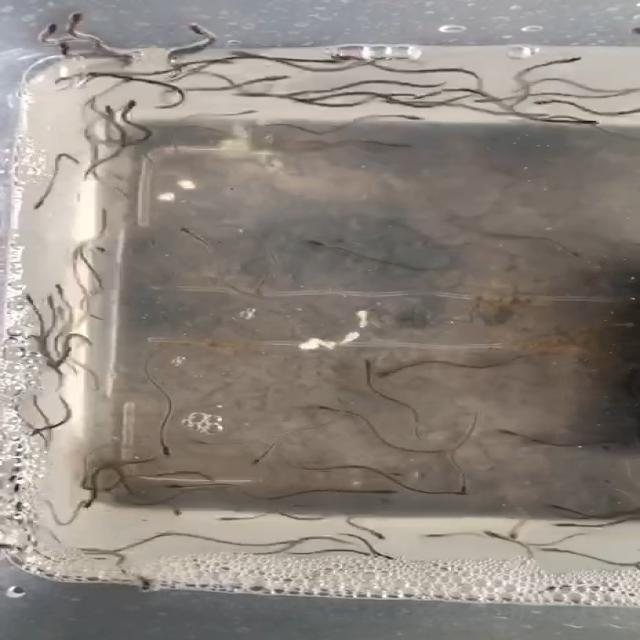inactive_glass_eel: (238, 447, 297, 480), (137, 432, 195, 464), (362, 362, 429, 387), (122, 100, 174, 130), (116, 568, 169, 596), (69, 11, 120, 37), (152, 471, 192, 504), (296, 229, 353, 251), (556, 240, 604, 266), (147, 222, 212, 240), (157, 18, 224, 35), (50, 274, 93, 300), (363, 518, 406, 544), (76, 492, 120, 517), (295, 392, 334, 420), (324, 52, 386, 69), (466, 520, 506, 544), (32, 24, 76, 45), (546, 511, 586, 533), (454, 91, 492, 114), (438, 477, 479, 498), (492, 424, 535, 444), (383, 112, 439, 127), (354, 482, 403, 499), (38, 288, 70, 314), (496, 519, 526, 545), (528, 54, 604, 64), (564, 114, 604, 133), (84, 99, 122, 118), (540, 542, 572, 564), (9, 291, 42, 312), (346, 352, 376, 374), (539, 96, 580, 112)
